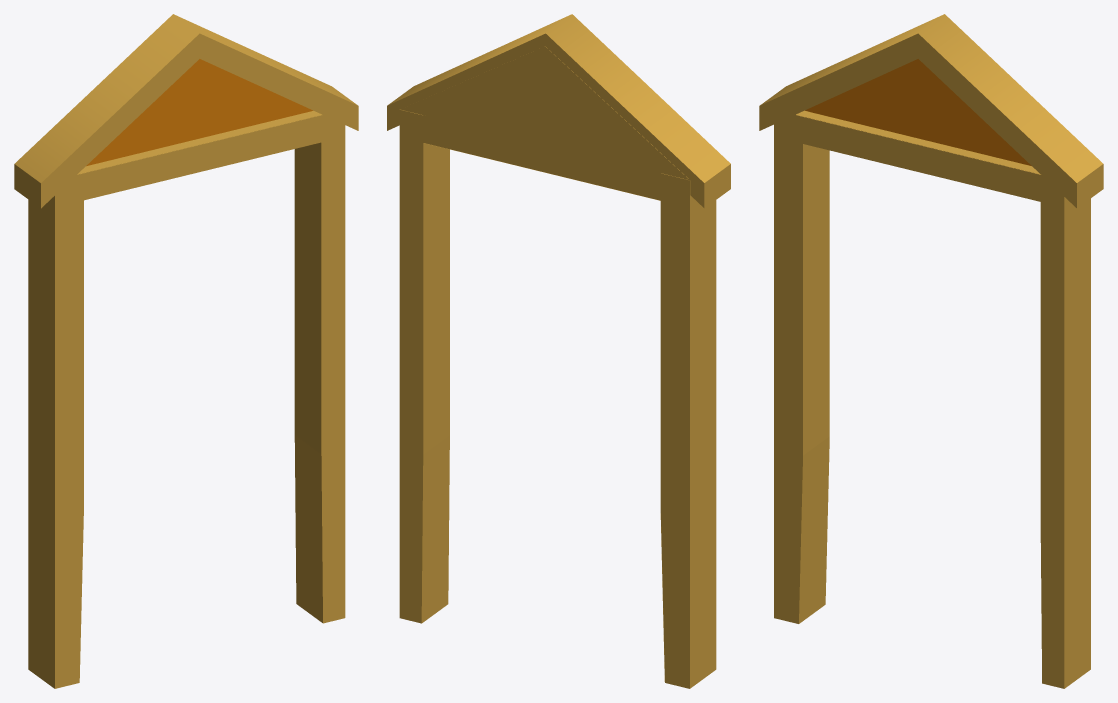
Rendered from marcopuerta.obj.
3 renders of one model, left to right at view 1: azimuth 30°, elevation 25°; view 2: azimuth 150°, elevation 25°; view 3: azimuth 330°, elevation 25°, orthographic.
Parts seen in each view (by area): view 1: pCube21; view 2: pCube21; view 3: pCube21.
Boxes of the visible parts, bbox=[...] form: pCube21: bbox=[14, 14, 358, 688]; pCube21: bbox=[387, 14, 730, 688]; pCube21: bbox=[759, 14, 1103, 688].
Size of the model in its own units: 1.31 by 2.45 by 0.1936.
1 material, 1 textured.
